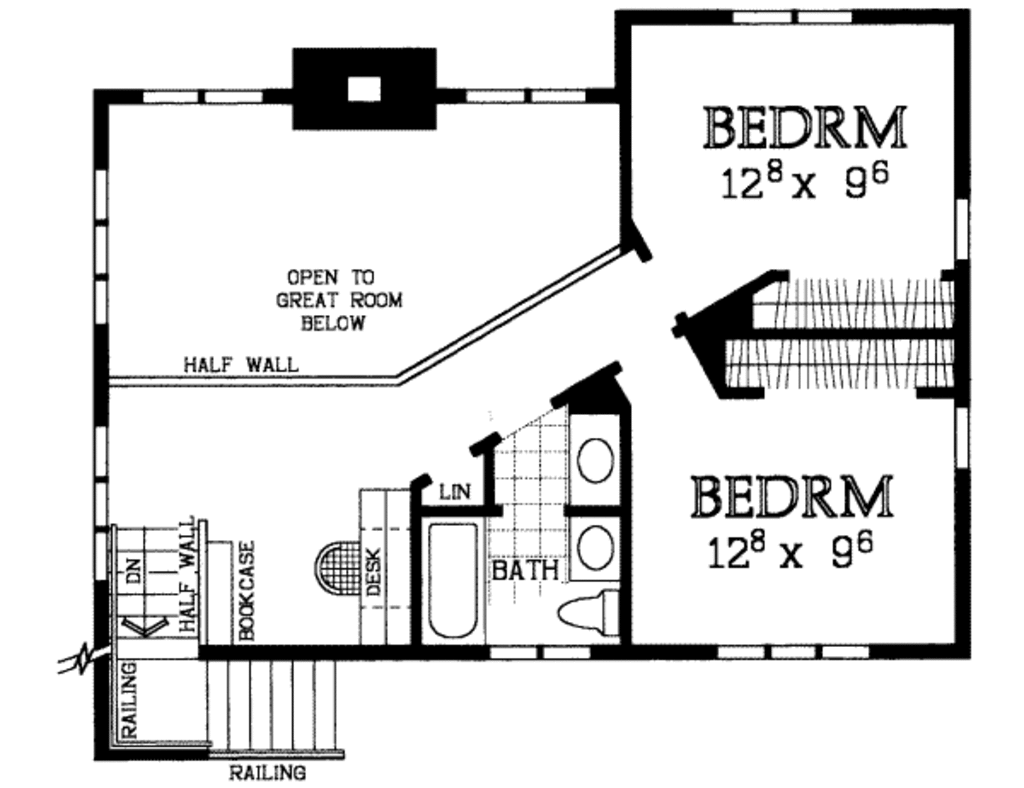large_sink: (555, 582, 622, 640)
small_sink: (567, 417, 635, 577)
stairs: (105, 519, 355, 769)
tub: (419, 513, 483, 643)
window: (81, 167, 122, 329), (461, 81, 595, 113), (716, 640, 880, 664), (478, 638, 595, 667), (138, 82, 263, 107), (91, 429, 111, 579), (949, 193, 980, 268), (730, 8, 854, 21), (954, 407, 971, 474)
